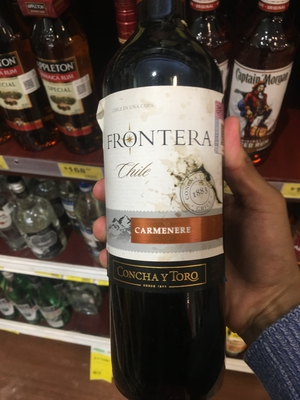frontera carmenere: (92, 15, 240, 362)
